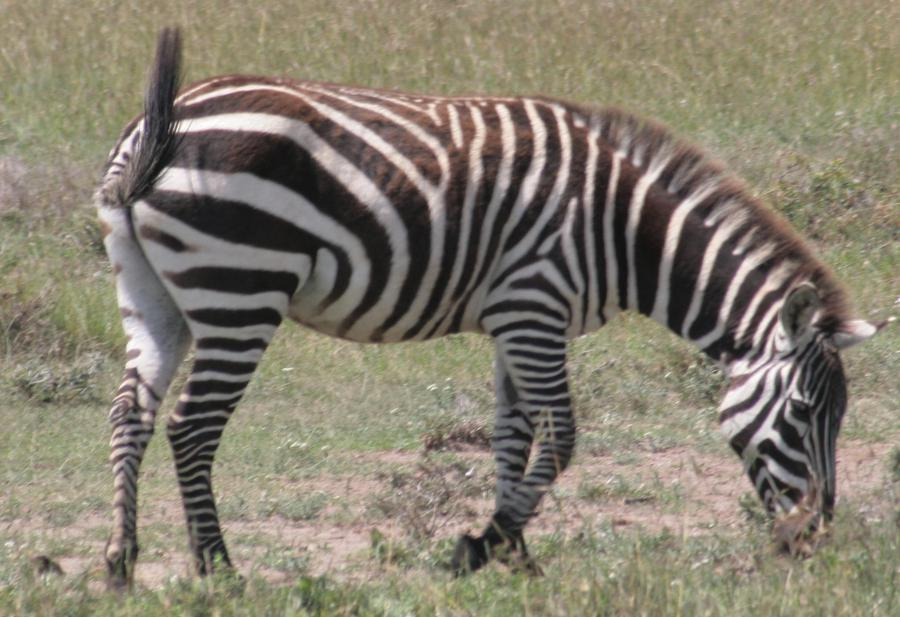zebra_plains: (156, 72, 605, 365)
